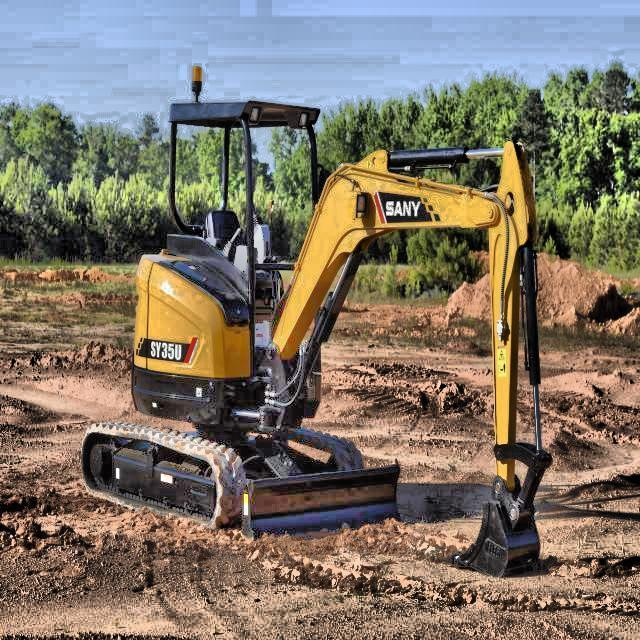excavator: (78, 64, 555, 581)
